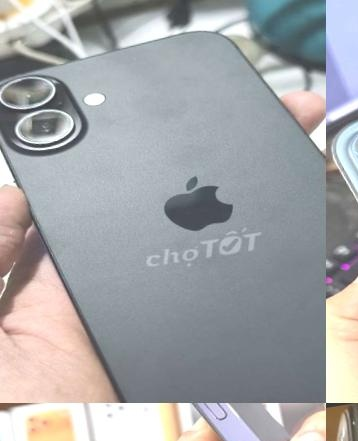scratch: (336, 406, 358, 432), (352, 430, 358, 441)
